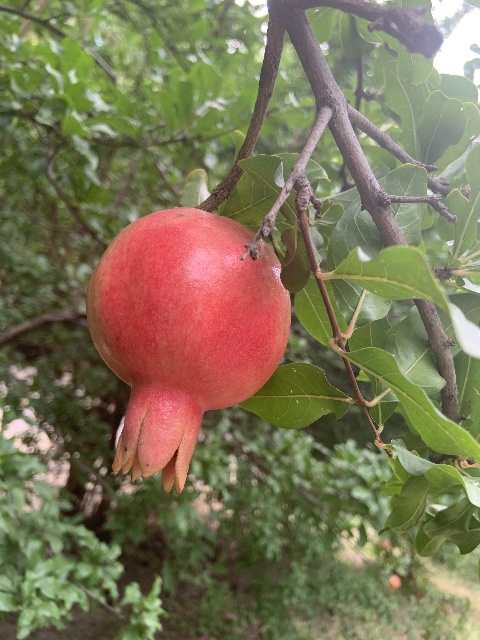ripe: (86, 206, 291, 496)
